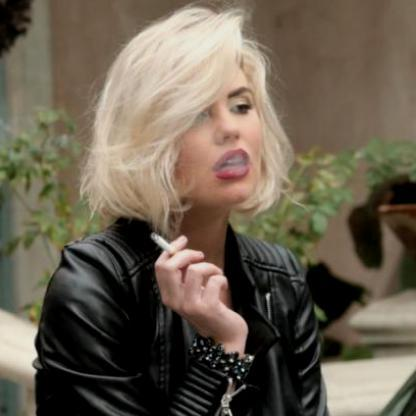cigarette: (149, 230, 181, 258)
person: (30, 9, 294, 415)
